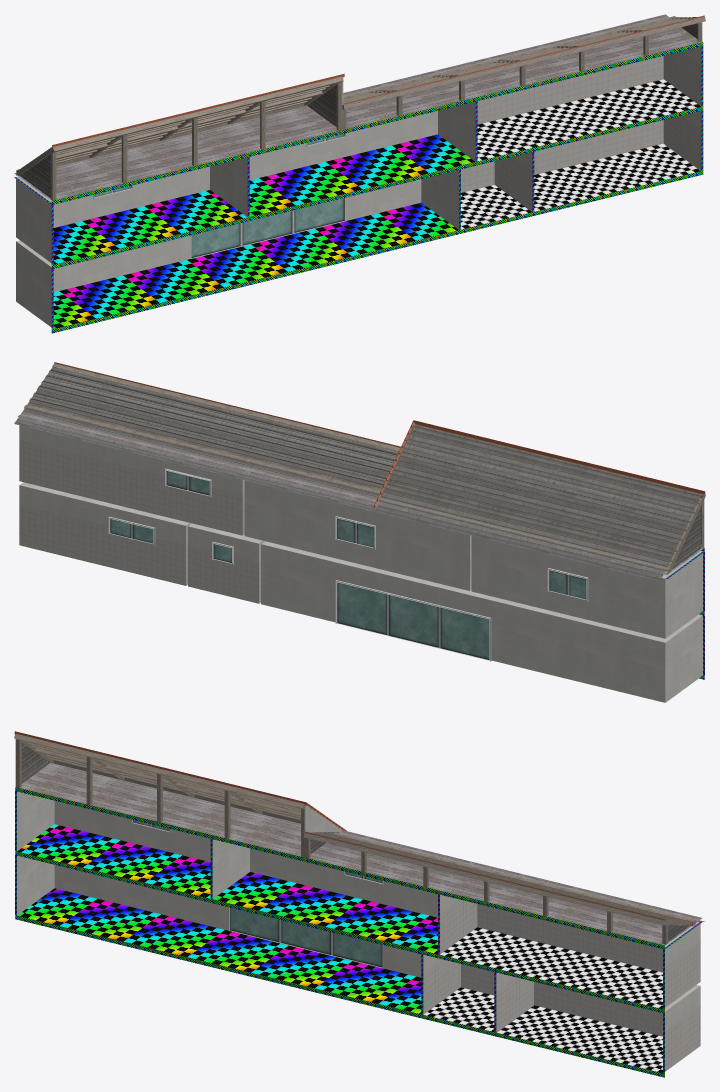
Rendered from HausBack.FBX.
3 views of the same model, one above another, from view 1: azimuth 30°, elevation 25°; view 2: azimuth 150°, elevation 25°; view 3: azimuth 330°, elevation 25° (orthographic).
Visible parts, largest first — view 1: BackAtticFloor, BackLowerLivingFloor, BackWoodBeams, BackBeams, BackLowerLivingWall, BackUpperTwinsFloor, BackUpperBathFloor, BackUpperChildWall, BackUpperChildFloor, BackUpperBathWall, BackUpperTwinsWall, BackLowerWashingFloor (+7 smaller); view 2: BackRoofCeiling, BackLowerLivingWall, BackUpperChildWall, BackUpperBathWall, BackUpperTwinsWall, BackWoodBeams, BackWindows, BackLowerWashingWall, BackLowerWCWall, BackAtticFloor, BackWindowFrame, BackRoof (+3 smaller); view 3: BackAtticFloor, BackLowerLivingFloor, BackWoodBeams, BackBeams, BackUpperBathWall, BackUpperTwinsFloor, BackUpperBathFloor, BackLowerWashingWall, BackLowerLivingWall, BackUpperChildFloor, BackUpperTwinsWall, BackLowerWashingFloor (+8 smaller).
Part boxes in pixels (<box>): BackAtticFloor: <box>14,14,702,200</box>; BackLowerLivingFloor: <box>53,202,458,328</box>; BackWoodBeams: <box>16,16,705,200</box>; BackBeams: <box>14,42,703,333</box>; BackLowerLivingWall: <box>16,170,458,327</box>; BackUpperTwinsFloor: <box>249,134,475,216</box>; BackUpperBathFloor: <box>477,79,700,160</box>; BackUpperChildWall: <box>16,157,247,262</box>; BackUpperChildFloor: <box>53,190,247,264</box>; BackUpperBathWall: <box>477,46,701,124</box>; BackUpperTwinsWall: <box>249,101,475,179</box>; BackLowerWashingFloor: <box>534,143,700,211</box>; BackRoofCeiling: <box>14,368,701,581</box>; BackLowerLivingWall: <box>261,544,702,702</box>; BackUpperChildWall: <box>471,535,702,638</box>; BackUpperBathWall: <box>19,425,244,535</box>; BackUpperTwinsWall: <box>244,480,471,590</box>; BackWoodBeams: <box>24,363,705,573</box>; BackWindows: <box>110,470,587,660</box>; BackLowerWashingWall: <box>19,485,191,585</box>; BackLowerWCWall: <box>188,526,264,603</box>; BackAtticFloor: <box>17,413,704,574</box>; BackWindowFrame: <box>108,468,588,661</box>; BackRoof: <box>54,362,705,508</box>; BackAtticFloor: <box>20,763,702,945</box>; BackLowerLivingFloor: <box>17,888,421,1013</box>; BackWoodBeams: <box>14,733,695,944</box>; BackBeams: <box>15,787,701,1077</box>; BackUpperBathWall: <box>440,894,700,1007</box>; BackUpperTwinsFloor: <box>213,872,437,954</box>; BackUpperBathFloor: <box>440,927,662,1008</box>; BackLowerWashingWall: <box>496,972,700,1071</box>; BackLowerLivingWall: <box>17,855,421,977</box>; BackUpperChildFloor: <box>17,824,210,898</box>; BackUpperTwinsWall: <box>212,839,437,917</box>; BackLowerWashingFloor: <box>497,1005,662,1073</box>.
Bounding box in the file's own units: 1339 × 370 × 150.
